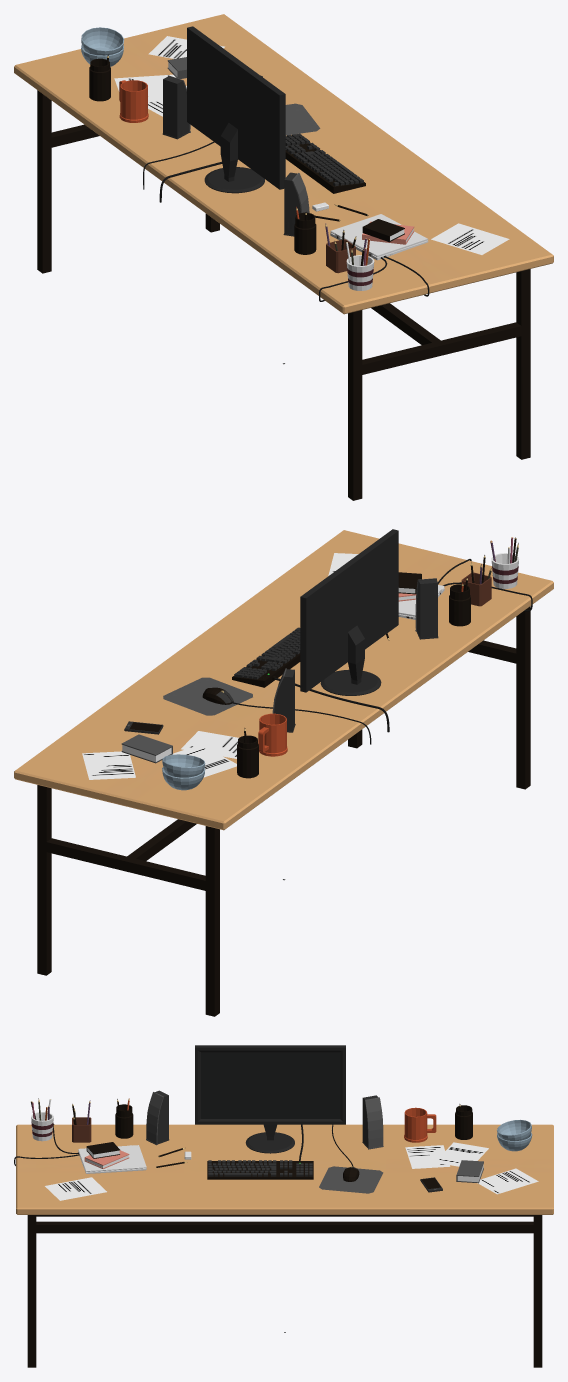
3 views of the same model, one above another, from view 1: azimuth 30°, elevation 25°; view 2: azimuth 150°, elevation 25°; view 3: azimuth 270°, elevation 25° (orthographic). The views are drawn at different scales.
Parts seen in each view (by area): view 1: Desk, PC_Monitor, Boxes, Paper, PC_Speaker, PC_Keyboard, Notebook, Books, Dish, Mousepad, Pen; view 2: Desk, PC_Monitor, Boxes, Paper, PC_Speaker, PC_Keyboard, Mousepad, Books, Dish, Pen; view 3: Desk, Plane, PC_Monitor, Paper, Boxes, PC_Speaker, PC_Keyboard, Books, Mousepad, Notebook, Dish, Pen.
Part boxes in pixels (x1=…): Desk: x1=14, y1=14, x2=553, y2=500; PC_Monitor: x1=187, y1=26, x2=285, y2=364; Boxes: x1=89, y1=58, x2=374, y2=290; Paper: x1=114, y1=36, x2=509, y2=254; PC_Speaker: x1=162, y1=75, x2=309, y2=236; PC_Keyboard: x1=285, y1=133, x2=365, y2=193; Notebook: x1=330, y1=214, x2=428, y2=260; Books: x1=167, y1=57, x2=414, y2=244; Dish: x1=81, y1=27, x2=124, y2=66; Mousepad: x1=285, y1=103, x2=320, y2=135; Pen: x1=106, y1=54, x2=369, y2=265; Desk: x1=14, y1=530, x2=553, y2=1016; PC_Monitor: x1=283, y1=529, x2=398, y2=880; Boxes: x1=237, y1=553, x2=518, y2=778; Paper: x1=82, y1=553, x2=358, y2=779; PC_Speaker: x1=272, y1=578, x2=438, y2=732; PC_Keyboard: x1=232, y1=627, x2=300, y2=687; Mousepad: x1=163, y1=677, x2=252, y2=715; Books: x1=121, y1=572, x2=421, y2=763; Dish: x1=162, y1=754, x2=205, y2=790; Pen: x1=244, y1=537, x2=518, y2=743; Desk: x1=16, y1=1124, x2=553, y2=1367; Plane: x1=201, y1=1052, x2=340, y2=1118; PC_Monitor: x1=195, y1=1045, x2=345, y2=1332; Paper: x1=45, y1=1142, x2=538, y2=1200; Boxes: x1=31, y1=1104, x2=472, y2=1142; PC_Speaker: x1=146, y1=1090, x2=383, y2=1149; PC_Keyboard: x1=207, y1=1160, x2=313, y2=1179; Books: x1=84, y1=1142, x2=483, y2=1183; Mousepad: x1=319, y1=1166, x2=383, y2=1193; Notebook: x1=78, y1=1145, x2=146, y2=1173; Dish: x1=497, y1=1119, x2=532, y2=1151; Pen: x1=31, y1=1098, x2=460, y2=1167.
Size of the model in its own units: 43.47 by 60.87 by 113.
19 materials, 16 textured.
